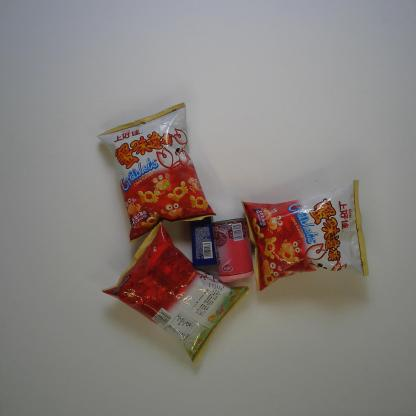Canned Food: (212, 217, 255, 283)
Personal Hygiene: (190, 214, 217, 268)
Puffed Food: (102, 221, 250, 364), (96, 102, 218, 243), (241, 178, 370, 292)
